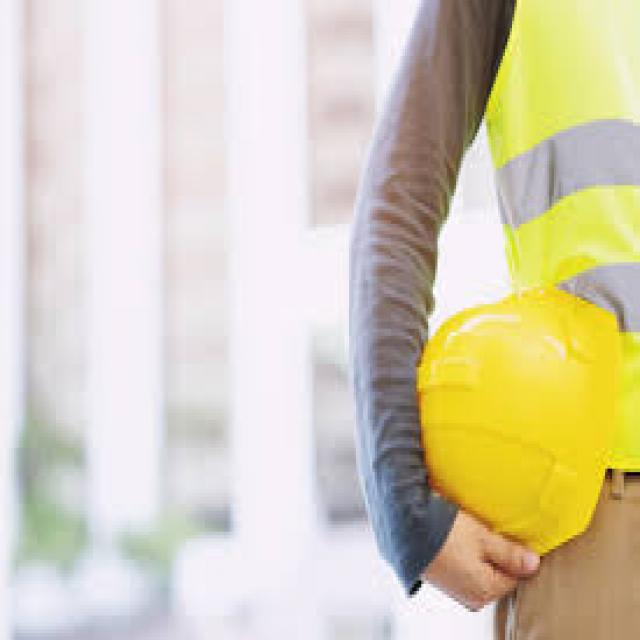Reflective-Jacket: (474, 1, 638, 497)
Safety-Helmet: (409, 272, 626, 579)
